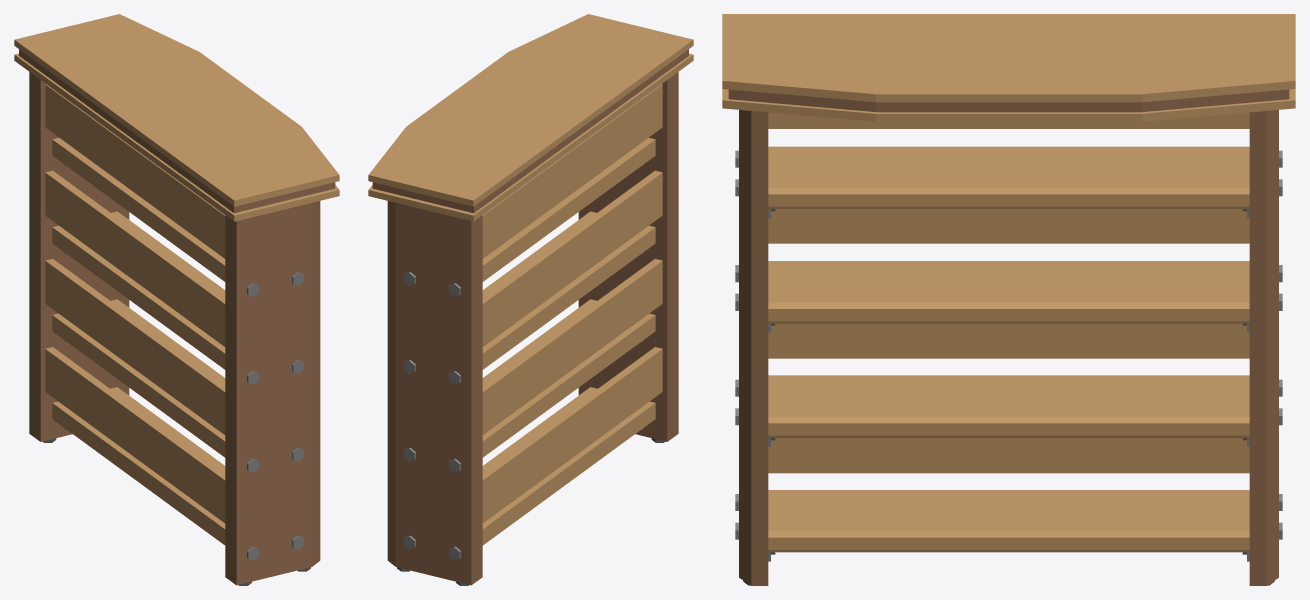
File: shelf.fbx
The picture shows the model from 3 angles, left to right: view 1: azimuth 30°, elevation 25°; view 2: azimuth 150°, elevation 25°; view 3: azimuth 270°, elevation 25°; orthographic projection. The views are drawn at different scales.
Parts seen in each view (by area): view 1: shelf_back, shelf_left_side, shelf_top, shelf_right_side, shelf_3, shelf_2, shelf_1, shelf_4, shelf_decals; view 2: shelf_back, shelf_right_side, shelf_top, shelf_left_side, shelf_3, shelf_2, shelf_1, shelf_4, shelf_decals; view 3: shelf_top, shelf_back, shelf_1, shelf_2, shelf_3, shelf_4, shelf_right_side, shelf_left_side, shelf_decals.
Part boxes in pixels (x1,y1,x2,y2): shelf_back: (45,84,225,523); shelf_left_side: (225,201,320,585); shelf_top: (14,14,339,221); shelf_right_side: (29,72,129,442); shelf_3: (52,211,225,369); shelf_2: (52,299,225,457); shelf_1: (52,387,225,545); shelf_4: (52,137,225,281); shelf_decals: (64,165,304,560); shelf_back: (482,84,662,523); shelf_right_side: (387,201,482,585); shelf_top: (368,14,693,221); shelf_left_side: (578,72,678,442); shelf_3: (482,211,655,369); shelf_2: (482,299,655,457); shelf_1: (482,387,655,545); shelf_4: (482,137,655,281); shelf_decals: (403,165,643,560); shelf_top: (722,14,1295,121); shelf_back: (768,112,1249,473); shelf_1: (768,490,1249,552); shelf_2: (768,375,1249,437); shelf_3: (768,261,1249,323); shelf_4: (768,146,1249,208); shelf_right_side: (1249,110,1278,585); shelf_left_side: (739,110,768,585); shelf_decals: (735,150,1282,561).
Bounding box in the file's own units: 388 × 1164 × 1170.
